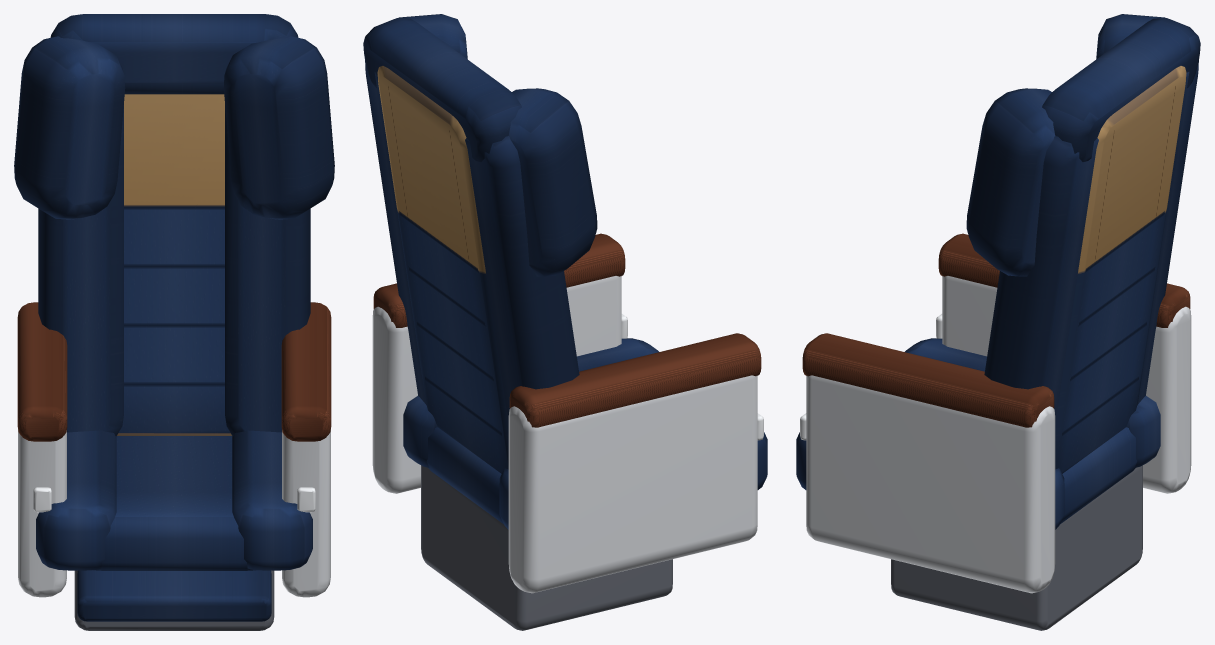
File: seat_ekonomiNewGenDual.glb
3 renders of one model, left to right at view 1: azimuth 30°, elevation 25°; view 2: azimuth 150°, elevation 25°; view 3: azimuth 270°, elevation 25°, orthographic. The views are drawn at different scales.
Parts seen in each view (by area): view 1: seat_ekonomiNewGenDual; view 2: seat_ekonomiNewGenDual; view 3: seat_ekonomiNewGenDual.
Boxes of the visible parts, x1,y1,x2,y2 form: seat_ekonomiNewGenDual: [14, 14, 334, 630]; seat_ekonomiNewGenDual: [363, 14, 767, 630]; seat_ekonomiNewGenDual: [796, 14, 1200, 630].
Size of the model in its own units: 0.7731 by 1.15 by 0.7668.
7 materials, 3 textured.
